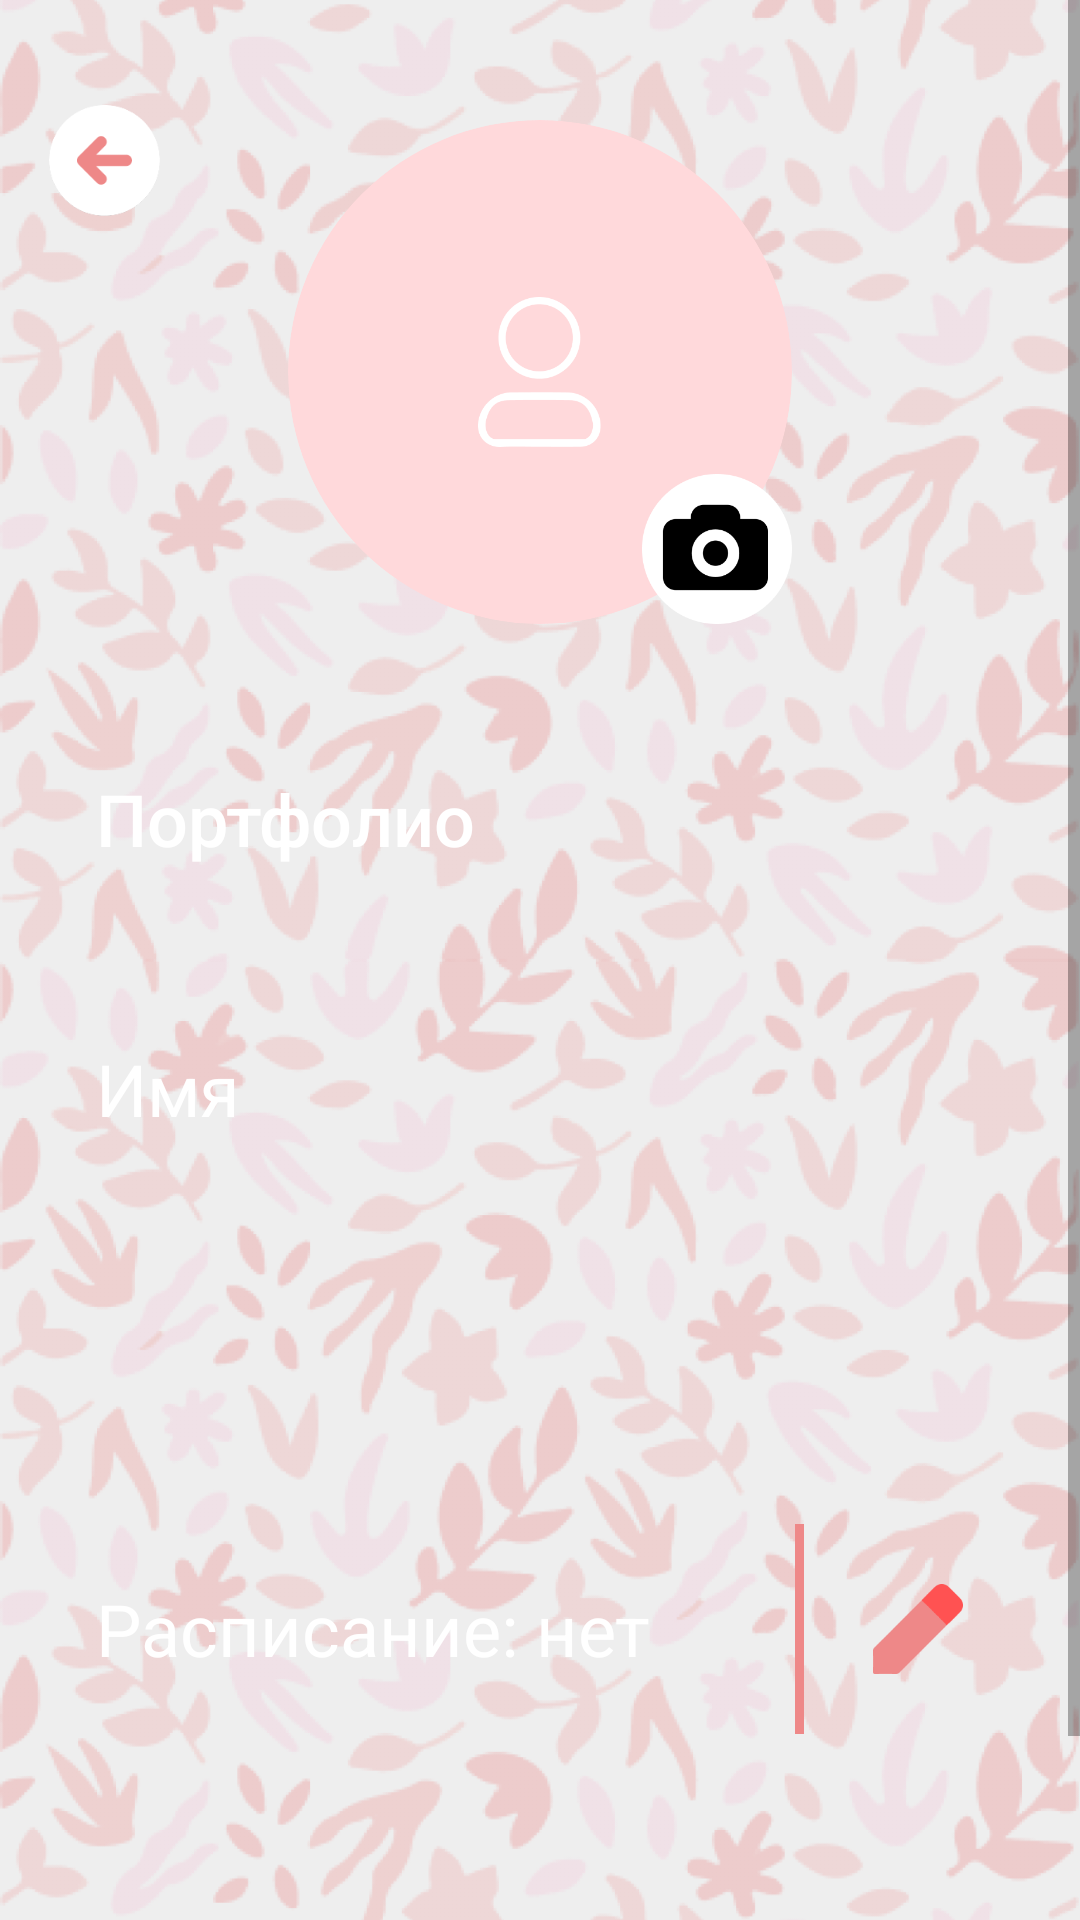

Locate icon controls on the screen. Image size 1080x1920, boxes as (left=x1, top=y1, right=x2, bottom=y2).
back arrow: (left=49, top=105, right=160, bottom=216)
